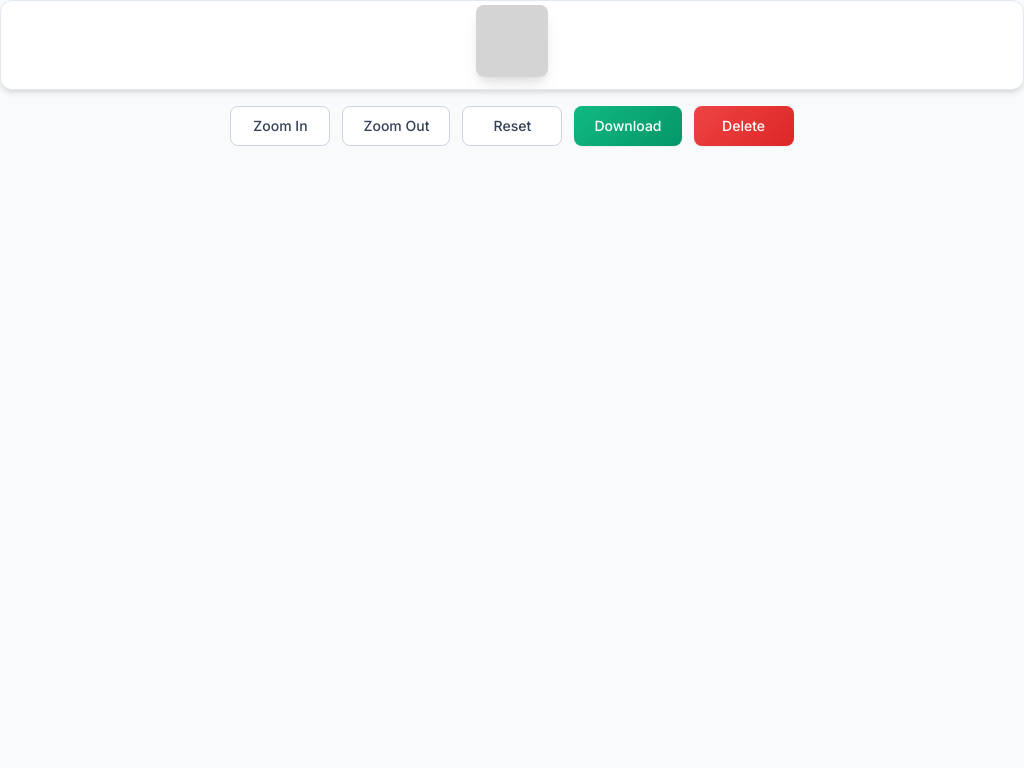
Scenario: ImageDisplay › Delete Functionality › shows delete modal when delete button is clicked
Click the button "Delete".
click(744, 126)  # box [694,106,794,146]
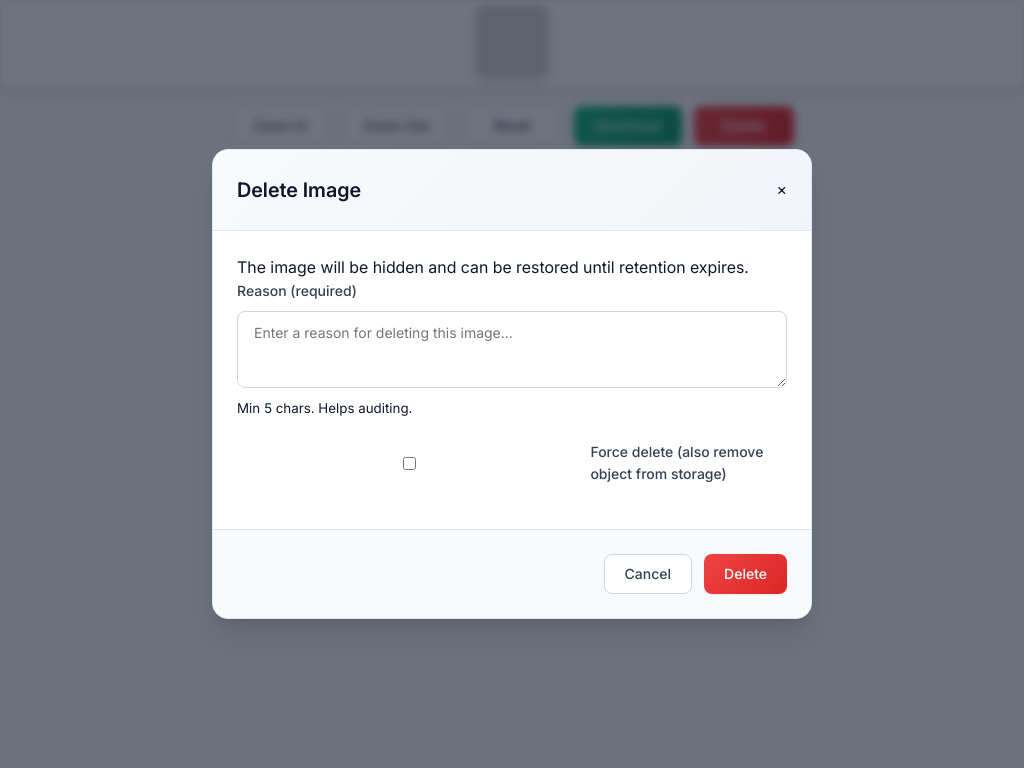
Check: the heading "Delete Image" is shown, box [237,174,361,206]
Check: the text box labelled "Reason (required)" is shown, box [237,310,787,388]
Check: the text "Force delete (also remove object from storage)" is shown, box [237,441,787,486]
